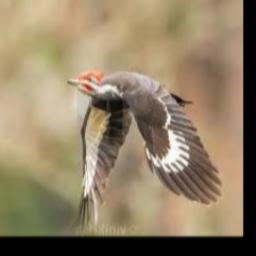Woodpecker: (67, 71, 223, 225)
